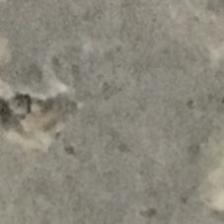Crack: (0, 58, 79, 184)
Non_Crack: (102, 14, 218, 218)
